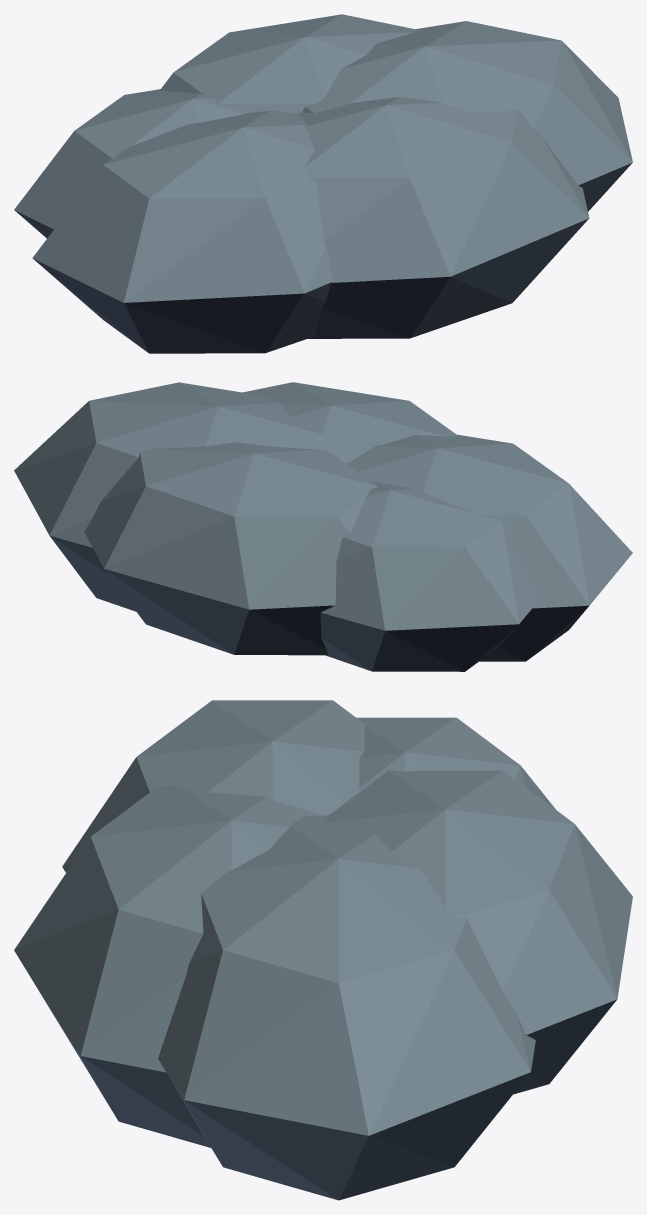
Rendered from TW_SHRUB_SPREAD_A_LOD0.glb.
3 renders of one model, top to bottom at view 1: azimuth 30°, elevation 25°; view 2: azimuth 150°, elevation 25°; view 3: azimuth 270°, elevation 25°, orthographic. The views are drawn at different scales.
Visible parts, largest first — view 1: TW_SHRUB_SPREAD_A_LOD0; view 2: TW_SHRUB_SPREAD_A_LOD0; view 3: TW_SHRUB_SPREAD_A_LOD0.
Boxes of the visible parts, x1,y1,x2,y2 form: TW_SHRUB_SPREAD_A_LOD0: (14, 14, 632, 353); TW_SHRUB_SPREAD_A_LOD0: (14, 382, 632, 671); TW_SHRUB_SPREAD_A_LOD0: (14, 700, 632, 1200).
Bounding box in the file's own units: 1.4 × 0.5 × 0.95.
1 material, 1 textured.
